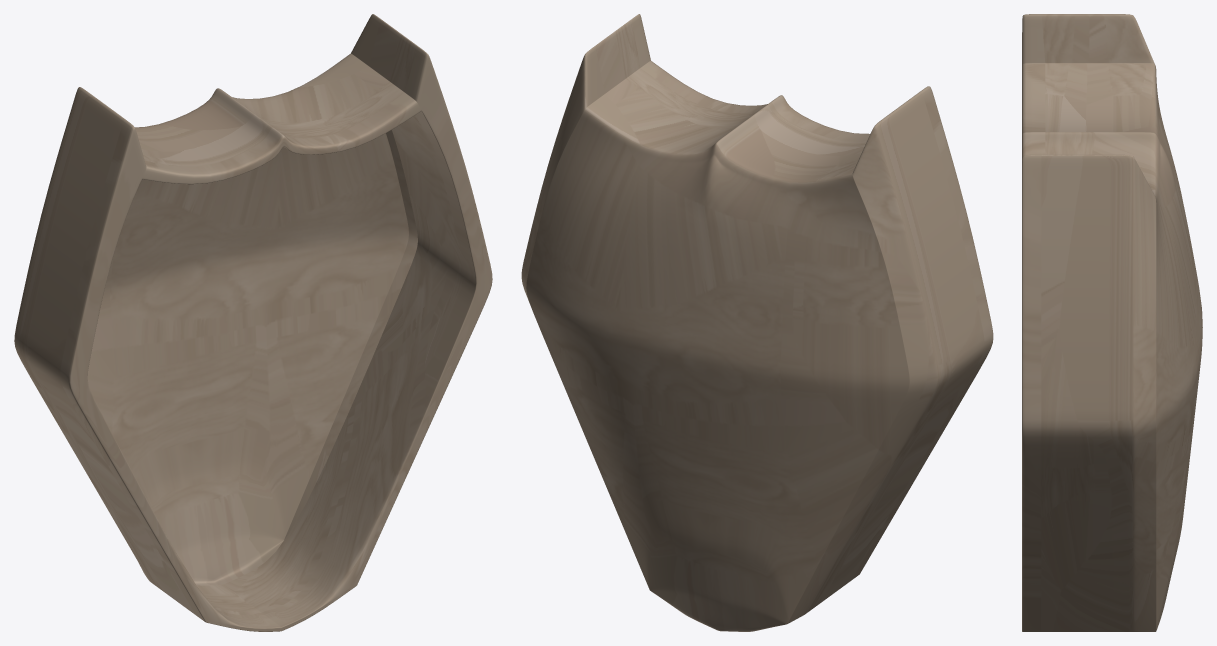
The model's file is Base_chebre.fbx.
3 views of the same model, side by side, from view 1: azimuth 30°, elevation 25°; view 2: azimuth 150°, elevation 25°; view 3: azimuth 270°, elevation 25° (orthographic).
Parts seen in each view (by area): view 1: Base chebre; view 2: Base chebre; view 3: Base chebre.
Part boxes in pixels (x1,y1,x2,y2): Base chebre: (14,14,492,631); Base chebre: (521,14,993,631); Base chebre: (1022,14,1202,631).
Bounding box in the file's own units: 55.5 × 67.95 × 20.65.
Materials: 1 (1 with a texture image).
